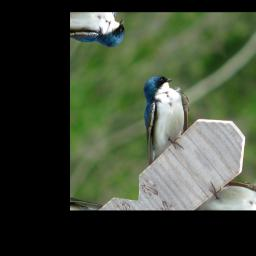Swallow: (106, 65, 212, 175)
